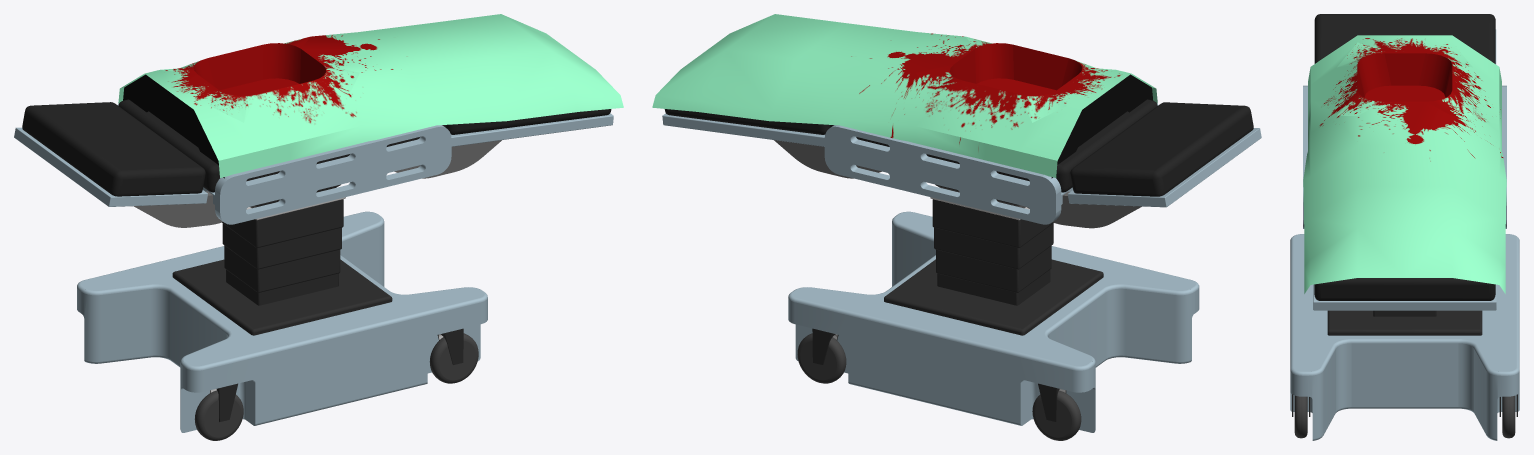
The model's file is SurgeryTable.fbx.
The picture shows the model from 3 angles, left to right: view 1: azimuth 30°, elevation 25°; view 2: azimuth 150°, elevation 25°; view 3: azimuth 270°, elevation 25°; orthographic projection. The views are drawn at different scales.
Parts seen in each view (by area): view 1: Symmetry_1, Boole_1, Cube_3, Cube_4, Cube_4_2, Cylinder, Cube_3_4, Cube_1_5, Plane_1, Cube_2_2, Cube_1_2, Cube_2 (+4 smaller); view 2: Symmetry_1, Boole_1, Cube_3, Cube_4, Cube_4_2, Cylinder, Cube_3_4, Cube_1_5, Plane_1, Cube_2_2, Cube_1_2, Cube_2 (+4 smaller); view 3: Symmetry_1, Boole_1, Cube_3, Cube_4_2, Cube_2, Cylinder, Cube_4, Cube_8.
Part boxes in pixels (x1,y1,x2,y2): Symmetry_1: (118, 14, 623, 177); Boole_1: (77, 211, 487, 432); Cube_3: (22, 99, 611, 196); Cube_4: (117, 104, 451, 224); Cube_4_2: (172, 259, 392, 335); Cylinder: (194, 333, 478, 440); Cube_3_4: (222, 199, 343, 247); Cube_1_5: (224, 245, 340, 292); Plane_1: (123, 74, 224, 178); Cube_2_2: (222, 223, 341, 269); Cube_1_2: (14, 127, 207, 206); Cube_2: (451, 113, 613, 146); Symmetry_1: (652, 14, 1157, 177); Boole_1: (788, 211, 1199, 432); Cube_3: (664, 99, 1253, 196); Cube_4: (824, 103, 1158, 224); Cube_4_2: (884, 259, 1103, 335); Cylinder: (797, 333, 1081, 440); Cube_3_4: (932, 199, 1053, 247); Cube_1_5: (936, 246, 1051, 292); Plane_1: (1051, 74, 1153, 178); Cube_2_2: (934, 223, 1053, 269); Cube_1_2: (1067, 128, 1261, 207); Cube_2: (662, 113, 824, 146); Symmetry_1: (1303, 35, 1506, 293); Boole_1: (1290, 234, 1519, 440); Cube_3: (1314, 14, 1495, 300); Cube_4_2: (1327, 310, 1482, 335); Cube_2: (1313, 284, 1496, 310); Cylinder: (1294, 395, 1515, 438); Cube_4: (1303, 85, 1506, 228); Cube_8: (1373, 310, 1436, 316).
Bounding box in the file's own units: 220 × 127 × 90.
Materials: 8 (1 with a texture image).
